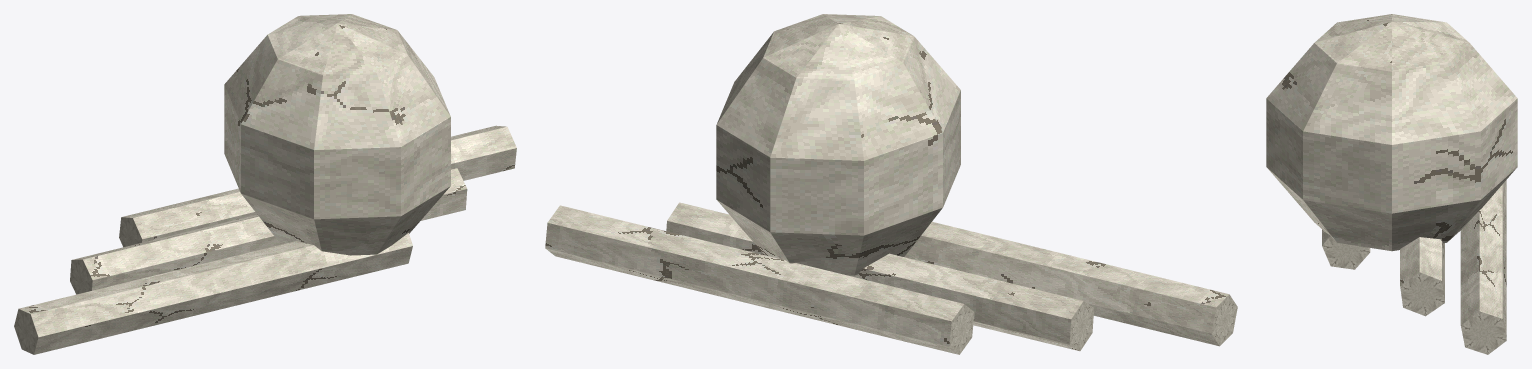
The model's file is catacumba_ossos.glb.
3 renders of one model, left to right at view 1: azimuth 30°, elevation 25°; view 2: azimuth 150°, elevation 25°; view 3: azimuth 270°, elevation 25°, orthographic. The views are drawn at different scales.
Parts seen in each view (by area): view 1: catacumba_ossos; view 2: catacumba_ossos; view 3: catacumba_ossos.
Boxes of the visible parts, x1,y1,x2,y2 form: catacumba_ossos: (14,14,516,354); catacumba_ossos: (545,14,1237,354); catacumba_ossos: (1266,14,1517,354).
Size of the model in its own units: 0.82 by 0.3318 by 0.3287.
Materials: 1 (1 with a texture image).
